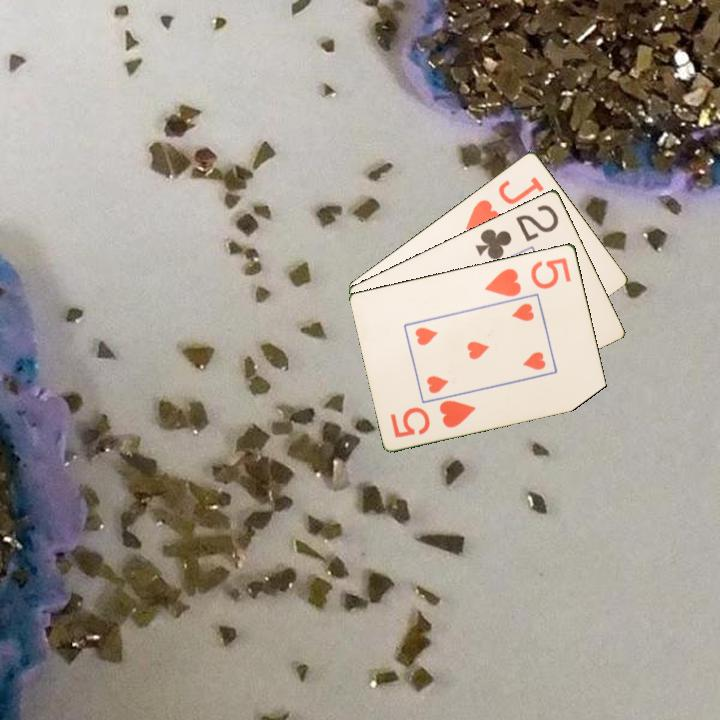2c: (472, 201, 562, 262)
5h: (481, 254, 574, 299), (387, 396, 479, 440)
Jh: (461, 173, 547, 233)
